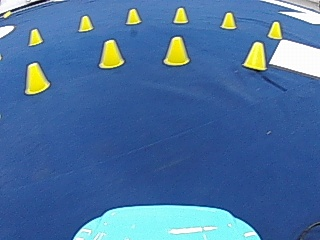cone: (24, 61, 50, 94), (97, 39, 124, 68), (163, 35, 189, 65), (243, 40, 267, 70), (219, 11, 236, 29), (266, 20, 282, 39), (172, 6, 188, 24), (125, 7, 141, 24), (77, 15, 93, 31), (28, 28, 43, 45)
